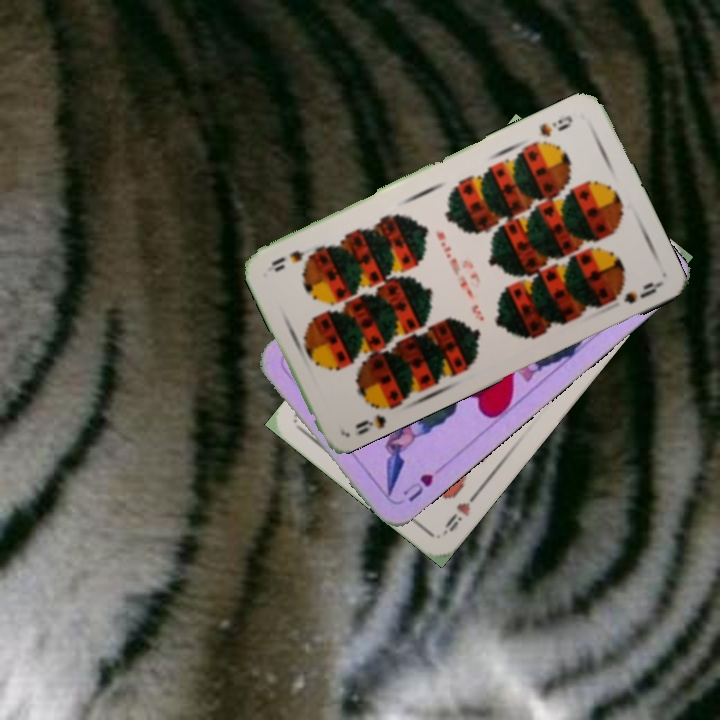H9: (438, 487, 482, 537)
HU: (399, 469, 436, 505)
S9: (535, 111, 576, 140), (351, 410, 389, 438)
